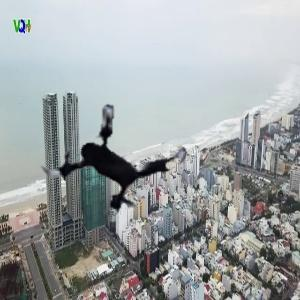drone: (33, 71, 197, 235)
